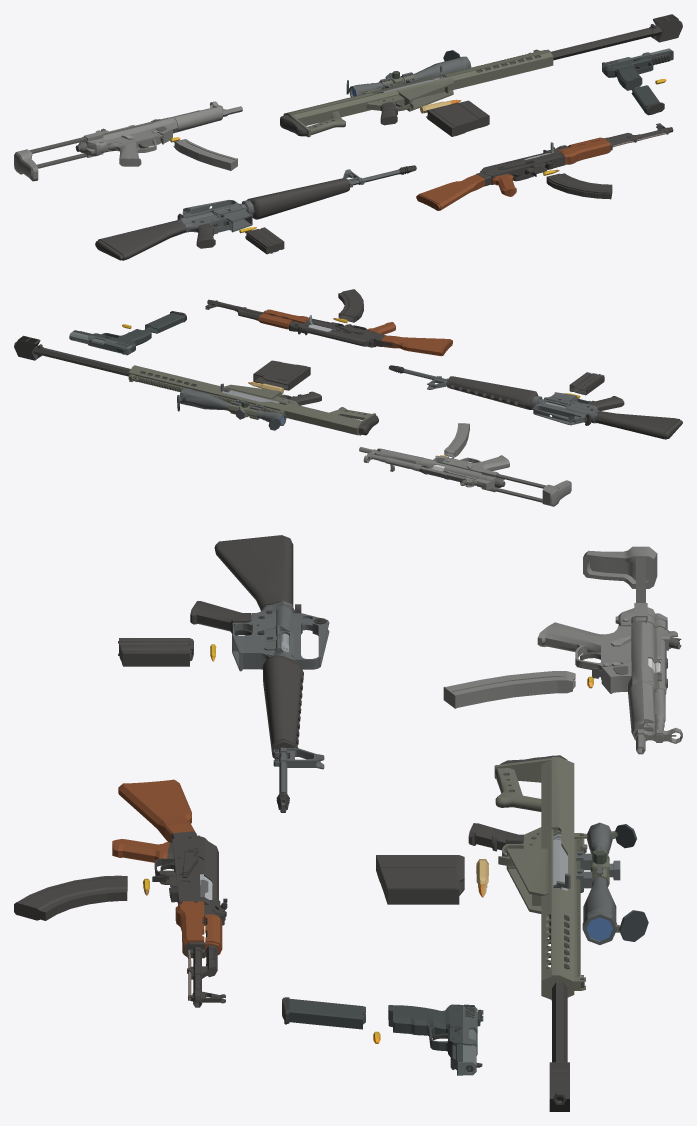
Rendered from free_pack_-_gun.glb.
3 views of the same model, one above another, from view 1: azimuth 30°, elevation 25°; view 2: azimuth 150°, elevation 25°; view 3: azimuth 270°, elevation 25° (orthographic). The views are drawn at different scales.
Visible parts, largest first — view 1: Barrett_M82A1_Body, M16A1_Body, HK_MP5_Body, AK47_Body, Barrett_M82A1_Magazine, FNFiveSeven_Body, Ak47_Magazine, HK_MP5_Magazine, M16A1_Magazine, FNFiveSeven_Magazine; view 2: Barrett_M82A1_Body, M16A1_Body, HK_MP5_Body, AK47_Body, FNFiveSeven_Body, Barrett_M82A1_Magazine, Ak47_Magazine, M16A1_Magazine, FNFiveSeven_Magazine, HK_MP5_Magazine; view 3: Barrett_M82A1_Body, M16A1_Body, HK_MP5_Body, AK47_Body, Barrett_M82A1_Magazine, FNFiveSeven_Body, Ak47_Magazine, HK_MP5_Magazine, M16A1_Magazine, FNFiveSeven_Magazine.
Boxes of the visible parts, bbox=[...] form: Barrett_M82A1_Body: bbox=[280, 14, 682, 137]; M16A1_Body: bbox=[95, 165, 416, 260]; HK_MP5_Body: bbox=[14, 101, 242, 181]; AK47_Body: bbox=[416, 123, 673, 210]; Barrett_M82A1_Magazine: bbox=[426, 100, 489, 136]; FNFiveSeven_Body: bbox=[602, 48, 673, 90]; Ak47_Magazine: bbox=[546, 173, 612, 199]; HK_MP5_Magazine: bbox=[173, 139, 237, 170]; M16A1_Magazine: bbox=[245, 227, 284, 254]; FNFiveSeven_Magazine: bbox=[631, 85, 664, 115]; Barrett_M82A1_Body: bbox=[14, 335, 378, 435]; M16A1_Body: bbox=[388, 365, 682, 439]; HK_MP5_Body: bbox=[359, 447, 571, 506]; AK47_Body: bbox=[205, 299, 452, 356]; FNFiveSeven_Body: bbox=[69, 329, 151, 355]; Barrett_M82A1_Magazine: bbox=[253, 360, 310, 390]; Ak47_Magazine: bbox=[338, 289, 363, 322]; M16A1_Magazine: bbox=[569, 372, 604, 395]; FNFiveSeven_Magazine: bbox=[145, 311, 186, 333]; HK_MP5_Magazine: bbox=[444, 423, 469, 457]; Barrett_M82A1_Body: bbox=[468, 755, 648, 1111]; M16A1_Body: bbox=[190, 535, 329, 812]; HK_MP5_Body: bbox=[537, 546, 682, 754]; AK47_Body: bbox=[112, 779, 227, 1007]; Barrett_M82A1_Magazine: bbox=[376, 855, 464, 904]; FNFiveSeven_Body: bbox=[388, 1004, 483, 1075]; Ak47_Magazine: bbox=[14, 875, 127, 920]; HK_MP5_Magazine: bbox=[443, 671, 575, 708]; M16A1_Magazine: bbox=[118, 638, 193, 666]; FNFiveSeven_Magazine: bbox=[282, 997, 365, 1029].
Size of the model in its own units: 1.99 by 0.0747 by 1.01.
Materials: 1 (1 with a texture image).
